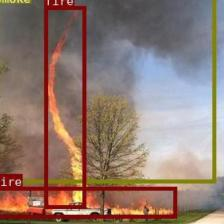fire: (44, 5, 85, 209), (0, 186, 176, 218)
smoke: (0, 0, 215, 183)
